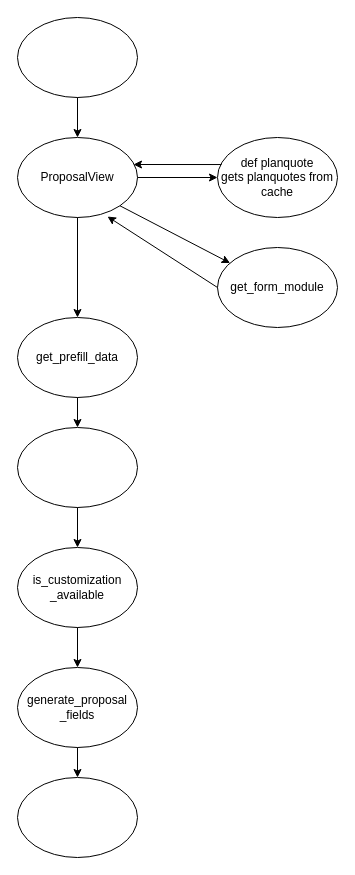
Image size: 355x875. Some labels were removed from this diagram. Each missing label, with the box of its shape:
buy-form: (16, 16, 138, 98)
get_proposal_form _modules: (16, 776, 138, 858)
planquote: (16, 426, 138, 508)
